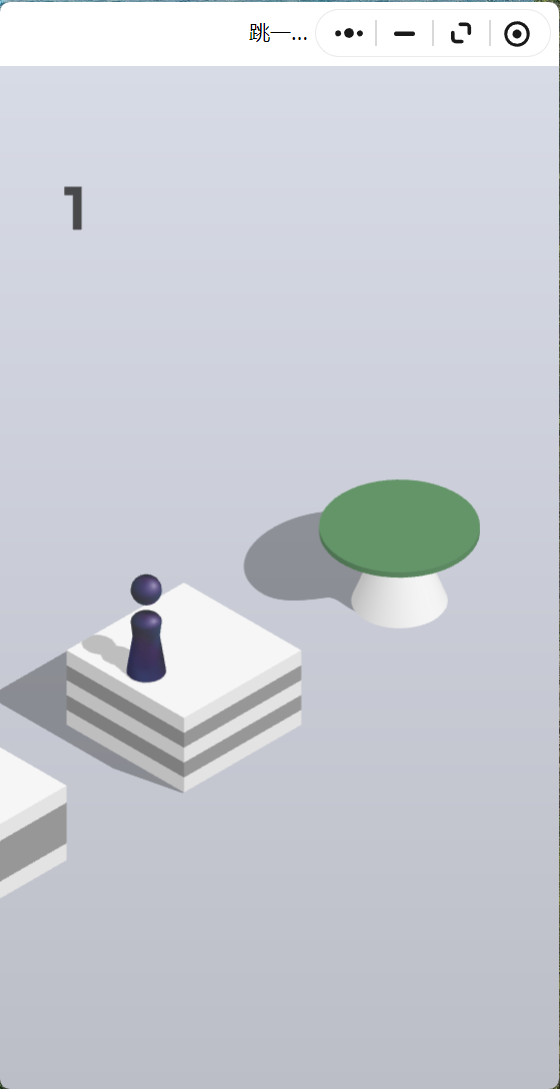piece: (131, 573, 162, 681)
target: (319, 479, 481, 573)
